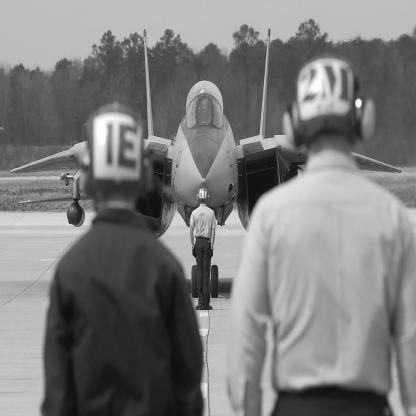F14: (11, 28, 403, 299)
